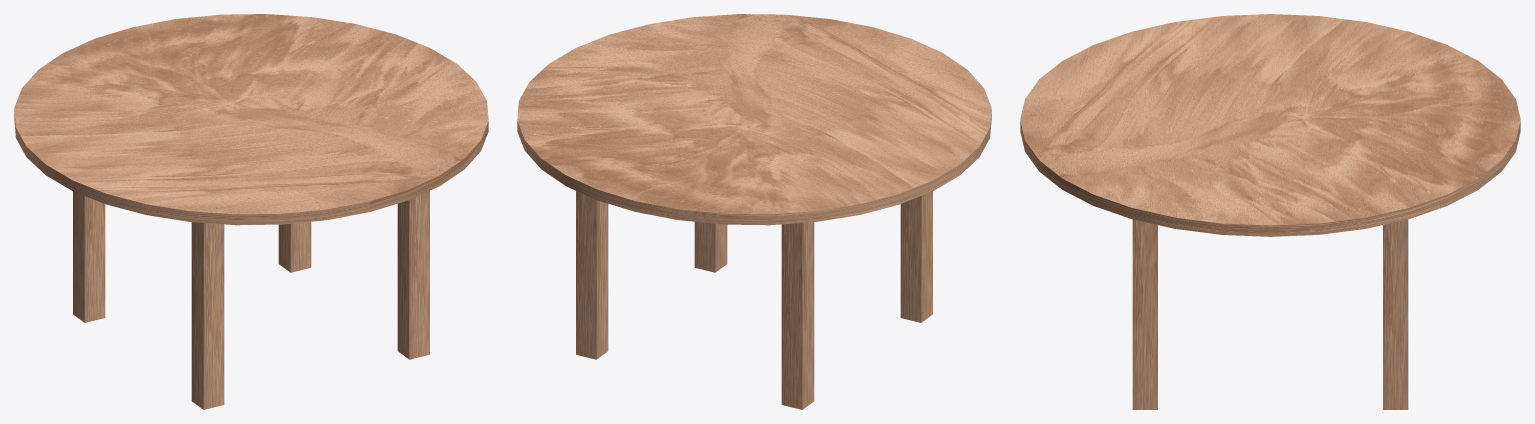
The model's file is table1.glb.
3 views of the same model, side by side, from view 1: azimuth 30°, elevation 25°; view 2: azimuth 150°, elevation 25°; view 3: azimuth 270°, elevation 25° (orthographic). The views are drawn at different scales.
Parts seen in each view (by area): view 1: Cylinder, Box (×4); view 2: Cylinder, Box (×4); view 3: Cylinder, Box (×2).
Part boxes in pixels (x1,y1,x2,y2): Cylinder: [14, 14, 488, 225]; Box (×4): [73, 191, 429, 409]; Cylinder: [517, 14, 991, 225]; Box (×4): [576, 191, 932, 409]; Cylinder: [1020, 14, 1520, 236]; Box (×2): [1132, 219, 1408, 409].
Bounding box in the file's own units: 2 × 1.02 × 2.
Materials: 2 (2 with a texture image).
